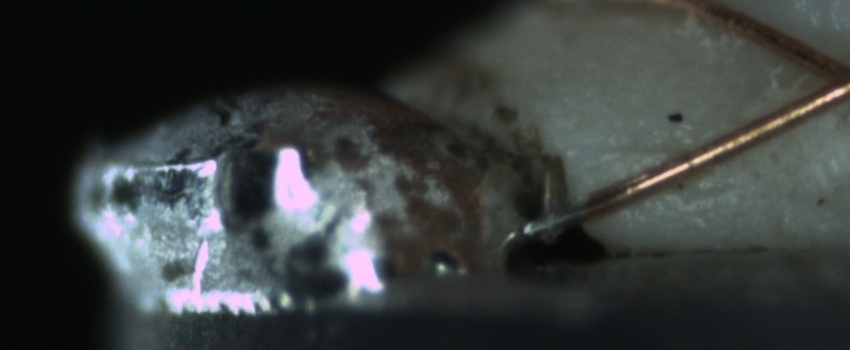CL: (797, 36, 849, 114)
DL: (576, 121, 707, 179)
TS: (522, 194, 590, 240)
